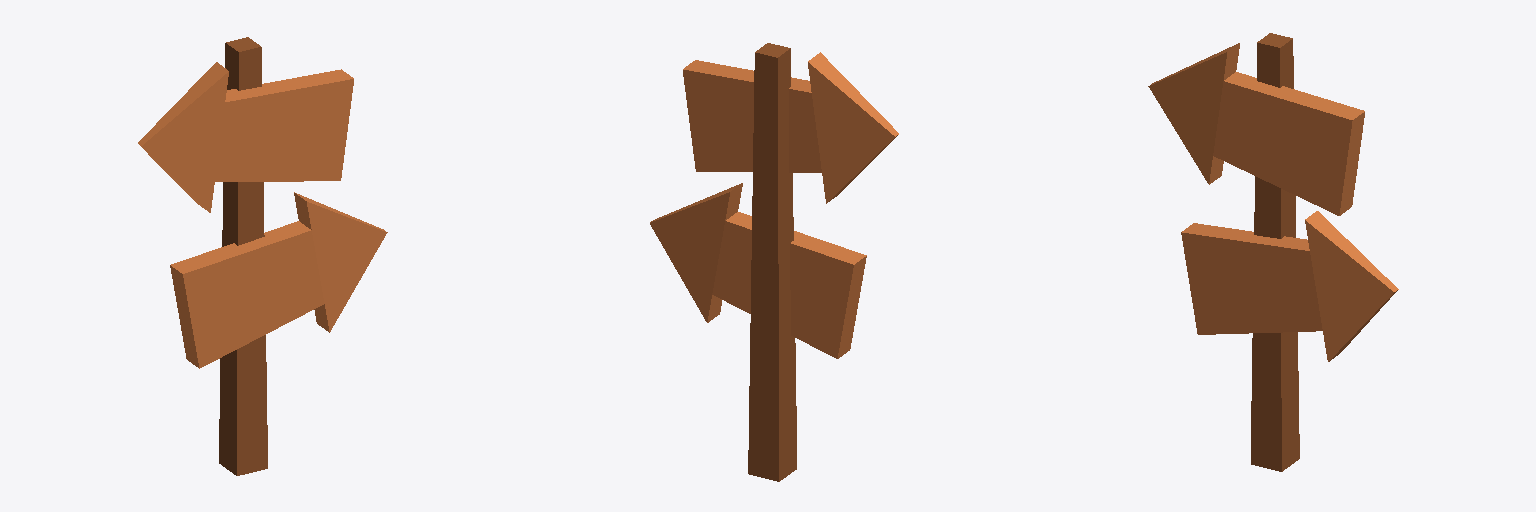
Rendered from arrows.obj.
The picture shows the model from 3 angles: view 1: azimuth 30°, elevation 25°; view 2: azimuth 150°, elevation 25°; view 3: azimuth 330°, elevation 25°; orthographic projection.
Visible parts, largest first — view 1: arrows; view 2: arrows; view 3: arrows.
Boxes of the visible parts, x1=… form: arrows: x1=138, y1=37, x2=387, y2=475; arrows: x1=650, y1=43, x2=898, y2=481; arrows: x1=1148, y1=33, x2=1398, y2=471.
Bounding box in the file's own units: 0.55 × 0.9 × 0.0998.